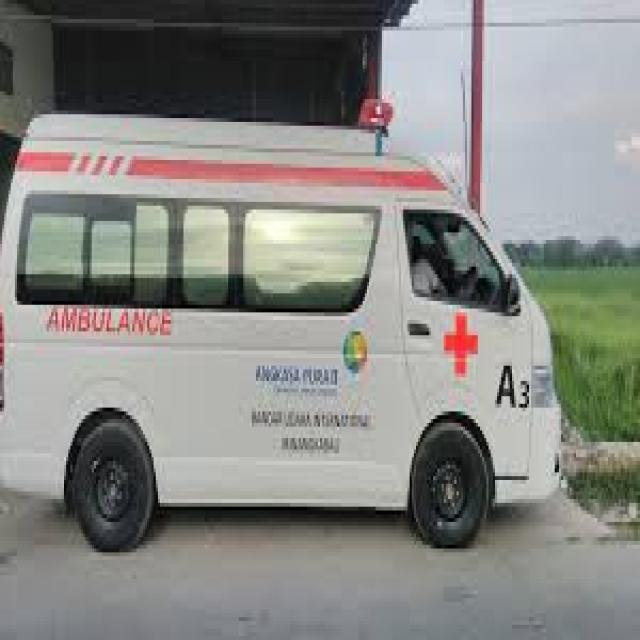emergency-vehicle: (0, 111, 561, 548)
